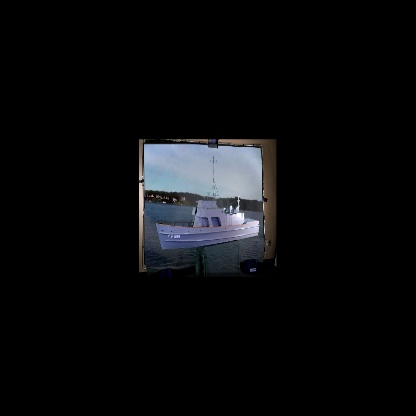YP689: (155, 155, 260, 251)
